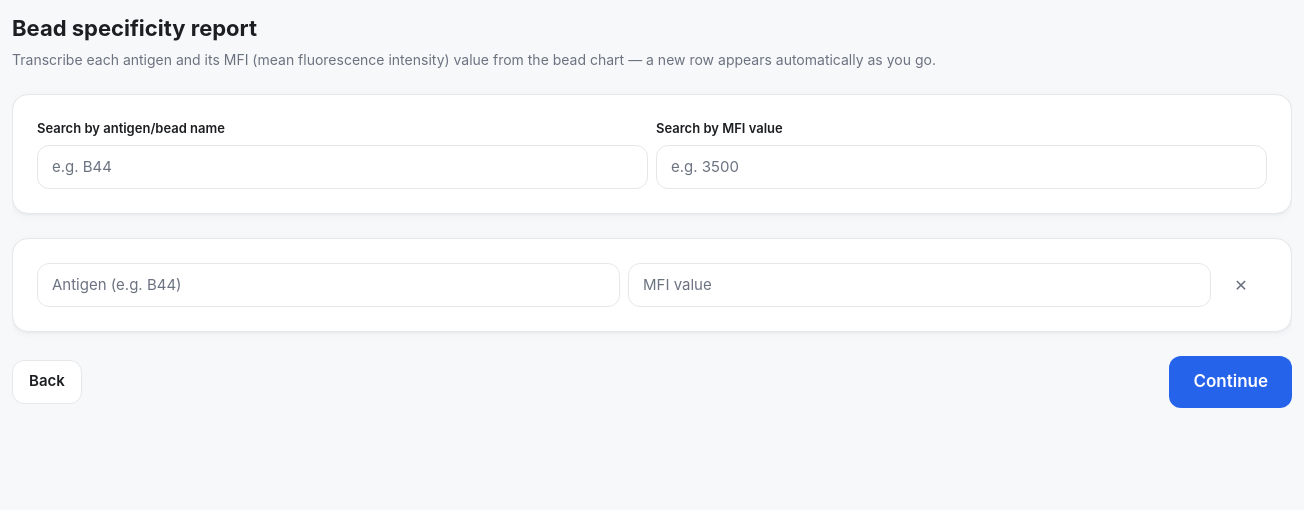
Test case: BeadSpecificityStep › rejects a non-numeric MFI value
The image size is (1304, 510).
In the field with placeholder "Antigen (e.g. B44)": (328, 284) [37, 262, 620, 306], type "DQ7"
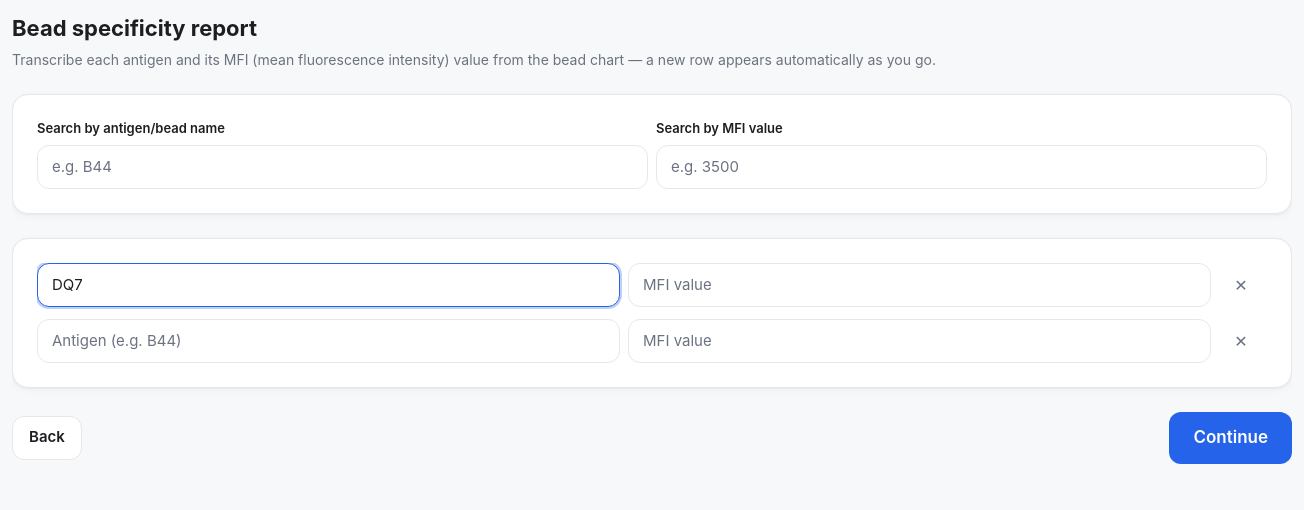
In the 1st field with placeholder "MFI value": (920, 284) [628, 262, 1211, 306], type "not-a-number"
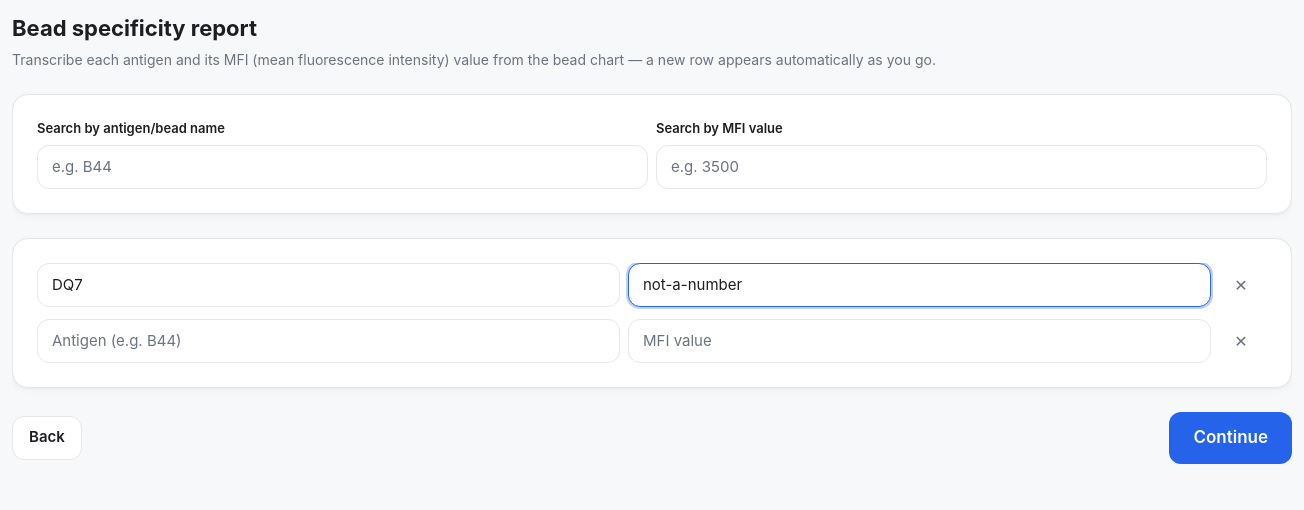
Click the button "Continue": (1231, 438) [1169, 412, 1292, 464]
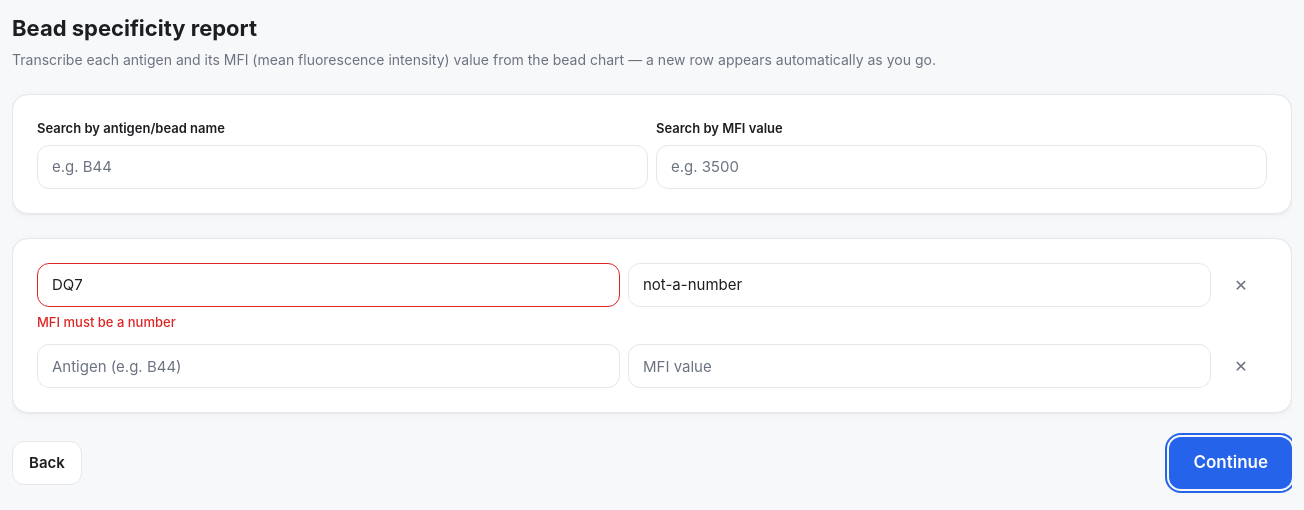
Expected: the text "MFI must be a number" is shown, [37, 314, 176, 330]
